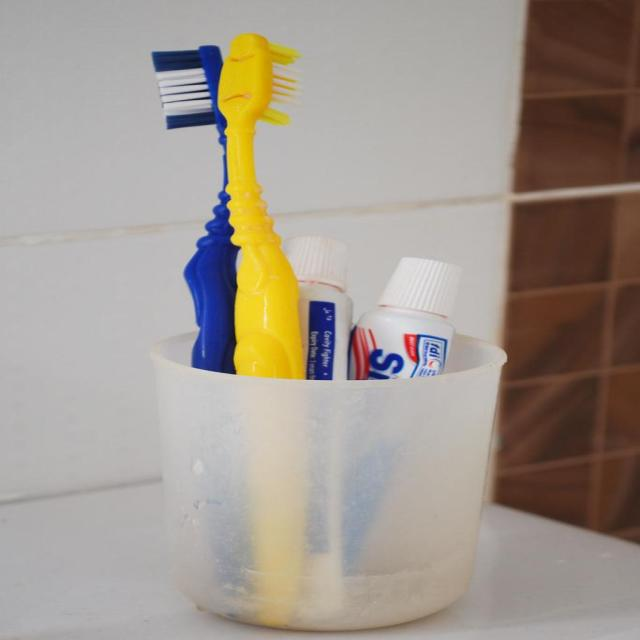Toothpaste: (280, 240, 458, 380)
